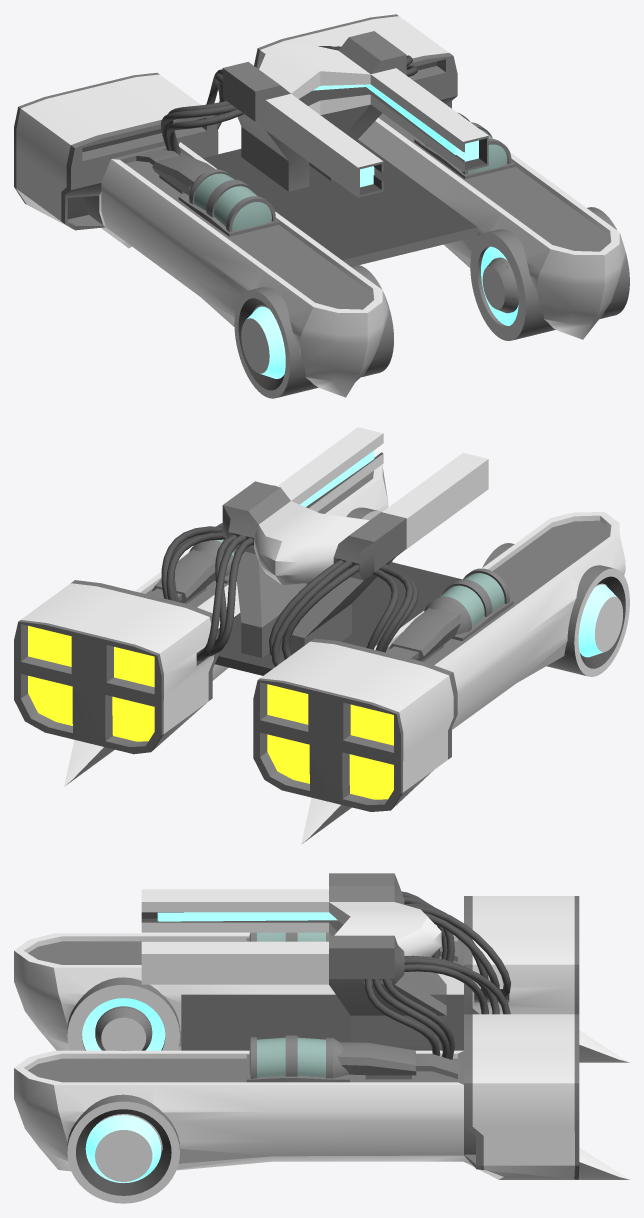
Rendered from Catamaran.glb.
3 renders of one model, top to bottom at view 1: azimuth 30°, elevation 25°; view 2: azimuth 150°, elevation 25°; view 3: azimuth 270°, elevation 25°, orthographic.
Parts seen in each view (by area): view 1: Hull, mag_generator, Cylinder, BezierCurve.002; view 2: Hull, Cylinder, BezierCurve.003, BezierCurve.001, BezierCurve.002, BezierCurve; view 3: Hull, Cylinder, mag_generator, BezierCurve, BezierCurve.003, BezierCurve.001, BezierCurve.002.
Boxes of the visible parts, x1,y1,x2,y2 form: Hull: [14, 14, 629, 398]; mag_generator: [470, 207, 629, 340]; Cylinder: [178, 112, 515, 236]; BezierCurve.002: [161, 101, 243, 155]; Hull: [14, 427, 629, 844]; Cylinder: [189, 523, 513, 641]; BezierCurve.003: [269, 560, 358, 666]; BezierCurve.001: [196, 534, 253, 661]; BezierCurve.002: [367, 564, 418, 652]; BezierCurve: [161, 526, 225, 601]; Hull: [14, 873, 629, 1203]; Cylinder: [246, 932, 349, 1082]; mag_generator: [67, 1050, 179, 1203]; BezierCurve: [364, 979, 454, 1059]; BezierCurve.003: [404, 903, 510, 999]; BezierCurve.001: [404, 955, 510, 1014]; BezierCurve.002: [401, 891, 454, 961].
Bounding box in the file's own units: 4.75 × 2.43 × 6.46.
